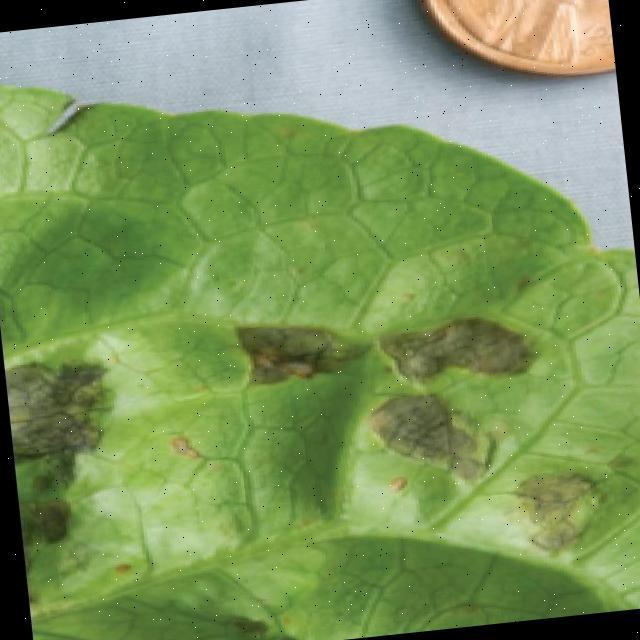Bacterial: (1, 258, 640, 611)
